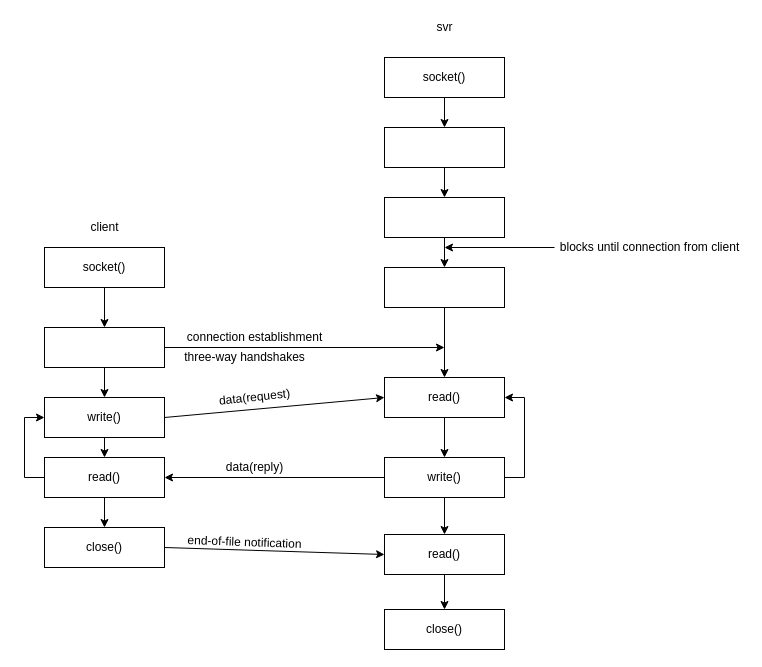
This 762x667 diagram has some shape labels left out. The shapes that lost their labels are listed below. From the top down, each one's centre as x and y in pixels, then its label:
pixel 444 147: bind()
pixel 444 217: listen()
pixel 444 287: accept()
pixel 104 347: connect()
